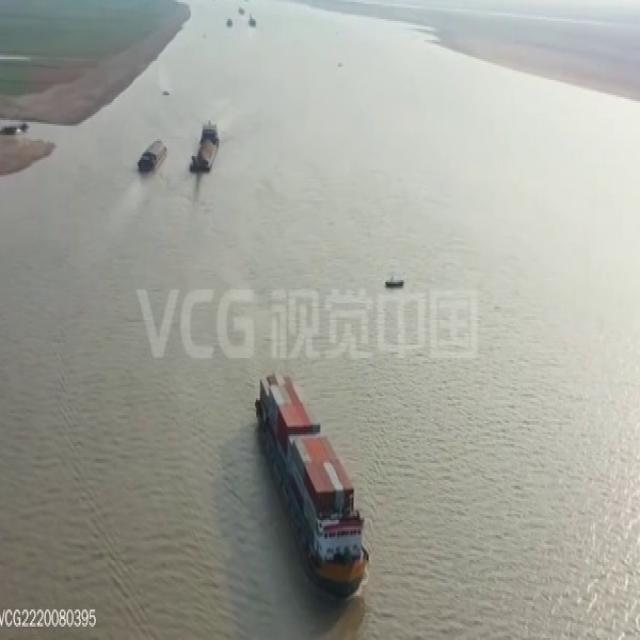cargoship: (250, 353, 382, 601)
